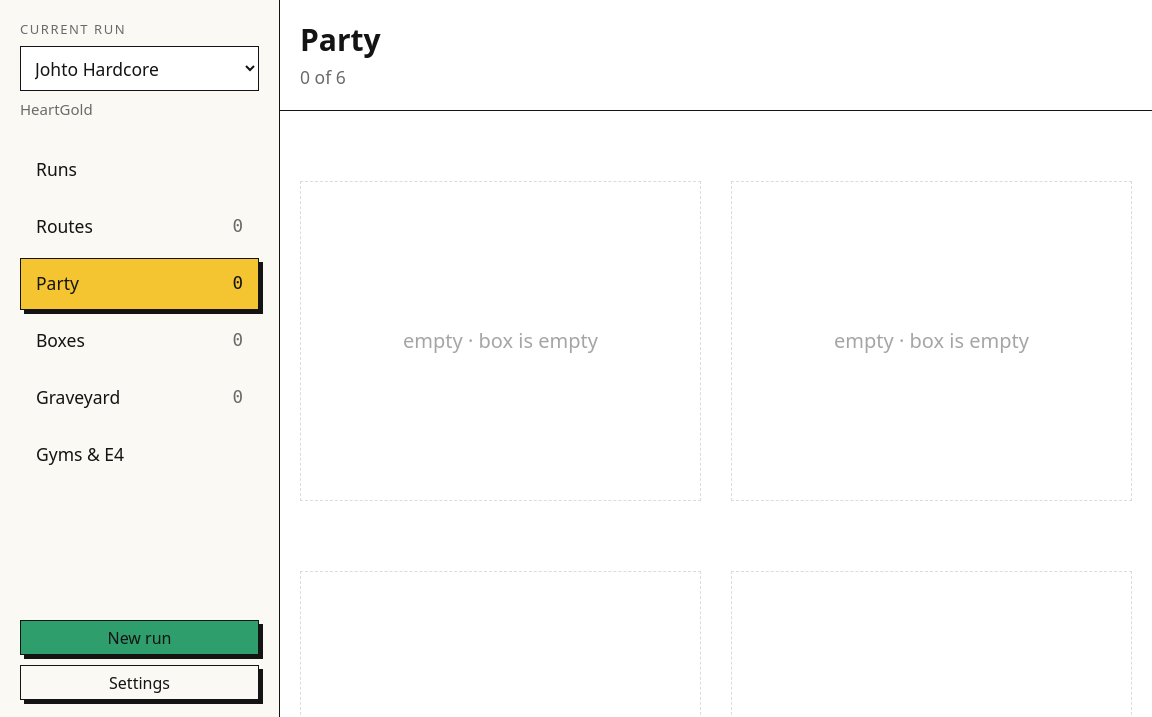
it: Current run outlives the URL › keeps the current run's switcher and nav rows when visiting the run list, in Sidebar navigation
The image size is (1152, 717).
Click the link "Runs" at (56, 169), box [36,157,77,181]
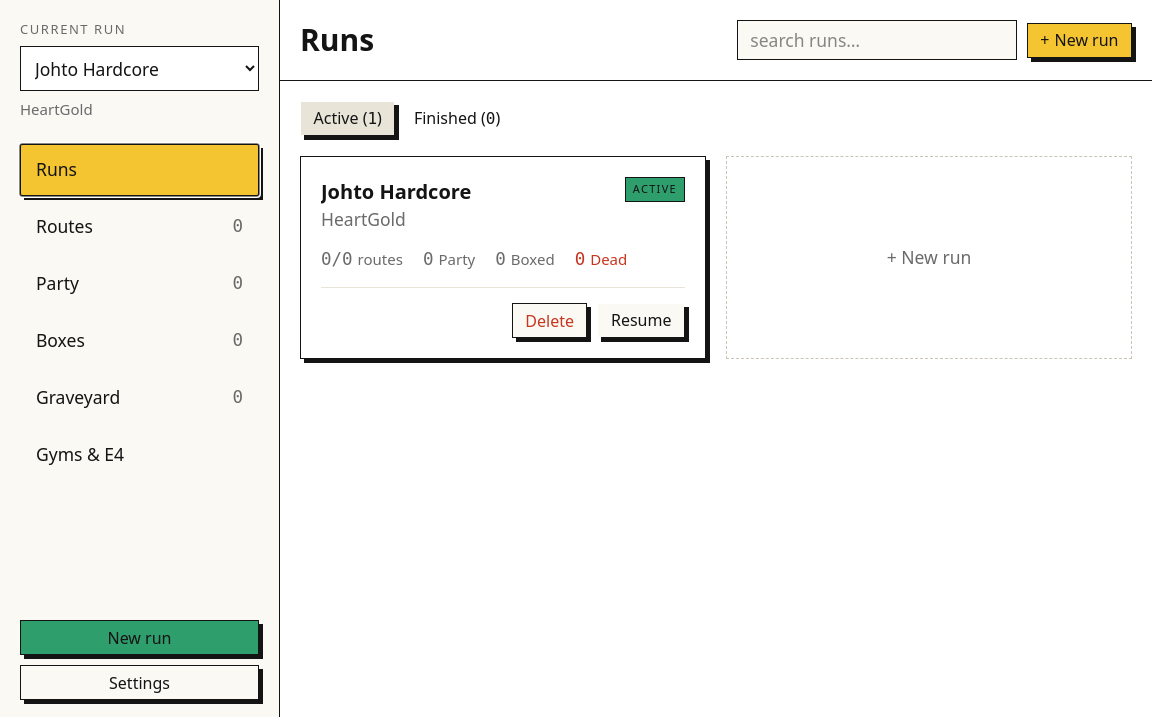
Expected: the heading "Johto Hardcore" is shown, [321,177,471,207]
